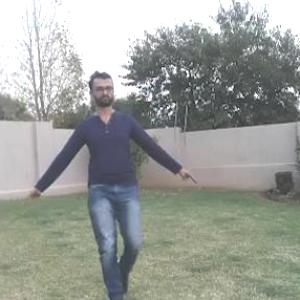land: (26, 74, 193, 292)
